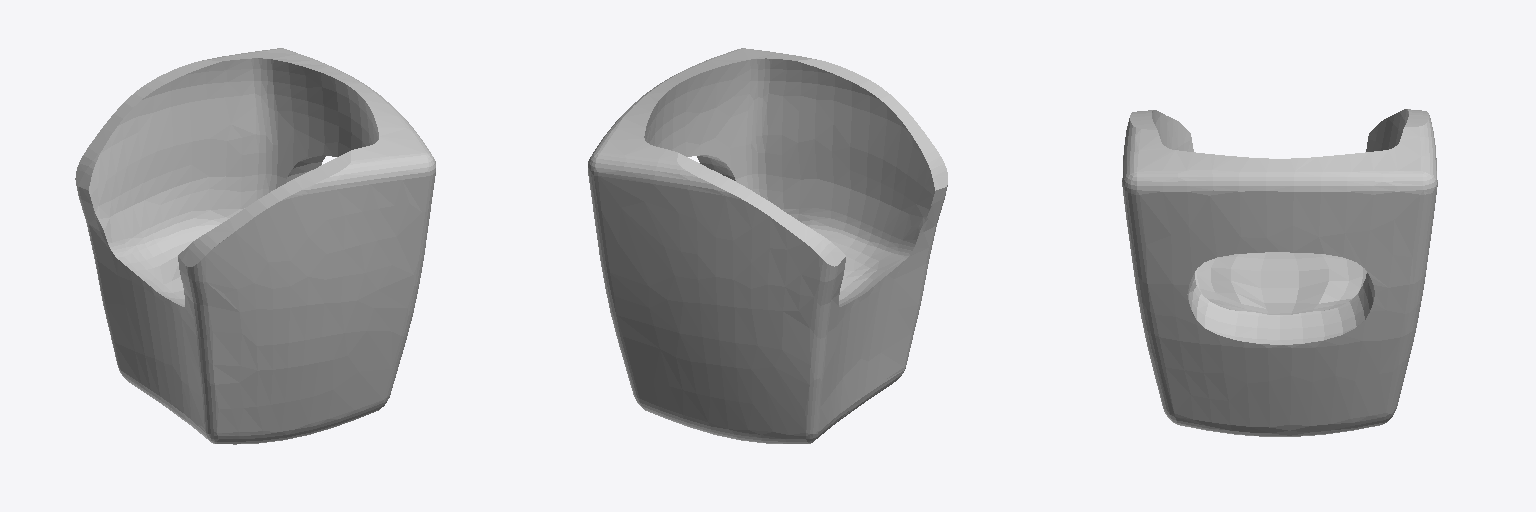
The model's file is chair.obj.
3 views of the same model, side by side, from view 1: azimuth 30°, elevation 25°; view 2: azimuth 150°, elevation 25°; view 3: azimuth 270°, elevation 25° (orthographic).
Visible parts, largest first — view 1: chair02; view 2: chair02; view 3: chair02.
Boxes of the visible parts, x1=… form: chair02: x1=75, y1=48, x2=435, y2=444; chair02: x1=588, y1=48, x2=947, y2=443; chair02: x1=1122, y1=109, x2=1437, y2=436.
Size of the model in its own units: 63.31 by 70.39 by 69.75.